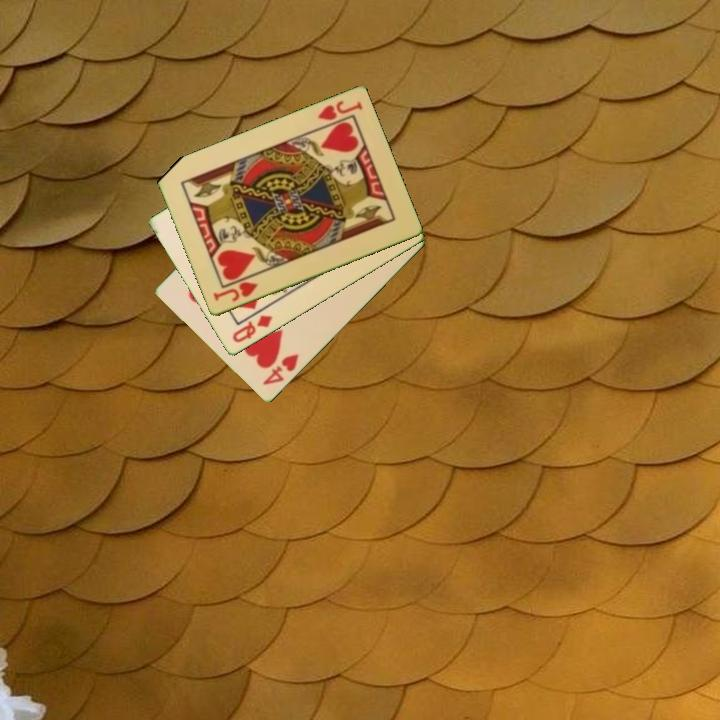4h: (259, 350, 302, 389)
Jh: (209, 278, 261, 305), (314, 97, 365, 124)
Qd: (229, 312, 275, 346)
